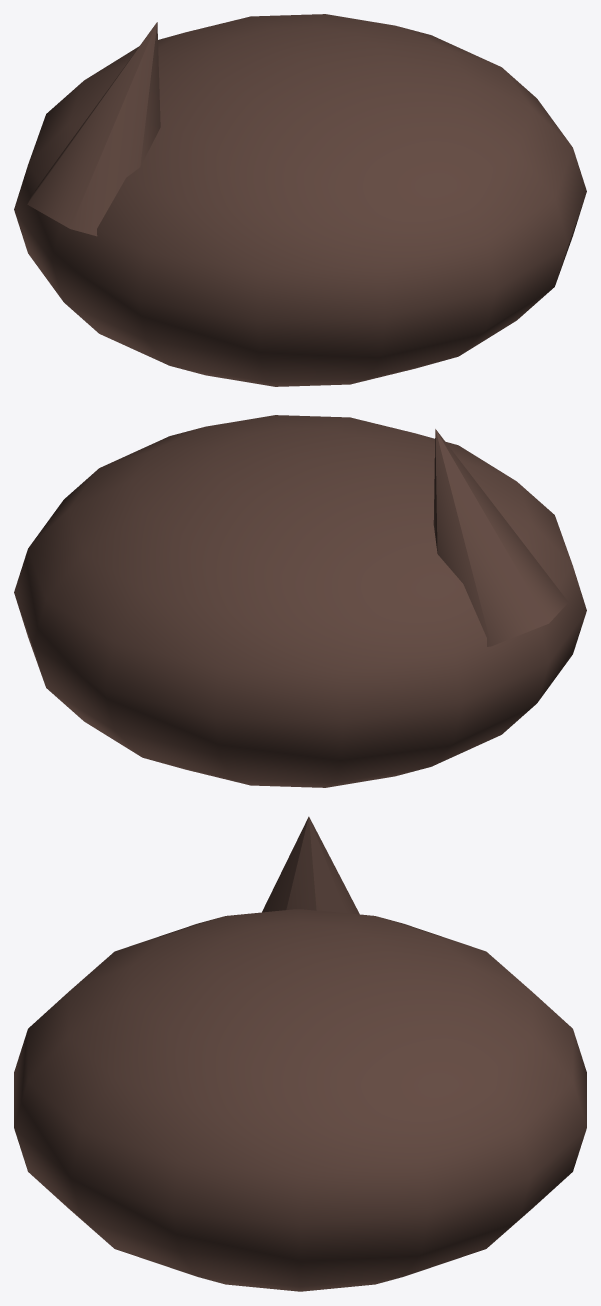
Rendered from chief_hair.glb.
3 views of the same model, one above another, from view 1: azimuth 30°, elevation 25°; view 2: azimuth 150°, elevation 25°; view 3: azimuth 270°, elevation 25° (orthographic). The views are drawn at different scales.
Parts seen in each view (by area): view 1: hair_cap, hair_detail_1; view 2: hair_cap, hair_detail_1; view 3: hair_cap, hair_detail_1.
Boxes of the visible parts, x1=… form: hair_cap: x1=14, y1=14, x2=586, y2=386; hair_detail_1: x1=27, y1=22, x2=160, y2=236; hair_cap: x1=14, y1=415, x2=586, y2=787; hair_detail_1: x1=433, y1=429, x2=568, y2=646; hair_cap: x1=14, y1=909, x2=586, y2=1291; hair_detail_1: x1=262, y1=816, x2=359, y2=914.
Size of the model in its own units: 0.717 by 0.4746 by 0.6824.
